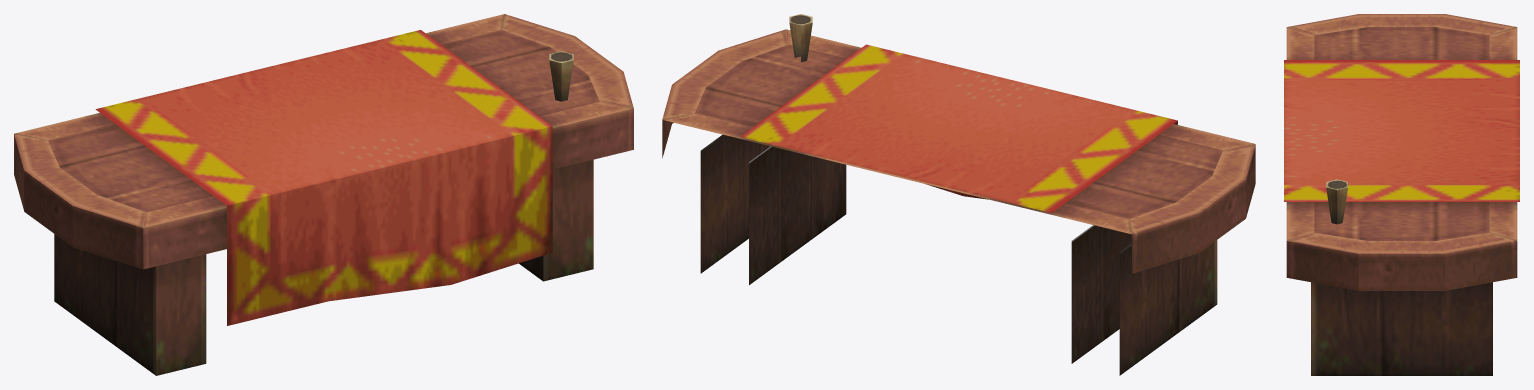
File: xsz_zhuoyi_1.FBX
The picture shows the model from 3 angles, left to right: view 1: azimuth 30°, elevation 25°; view 2: azimuth 150°, elevation 25°; view 3: azimuth 270°, elevation 25°; orthographic projection. The views are drawn at different scales.
Parts seen in each view (by area): view 1: xsz_zhuoyi_1; view 2: xsz_zhuoyi_1; view 3: xsz_zhuoyi_1.
Part boxes in pixels (x1,y1,x2,y2): xsz_zhuoyi_1: [14, 14, 633, 375]; xsz_zhuoyi_1: [662, 14, 1255, 375]; xsz_zhuoyi_1: [1284, 14, 1519, 375].
Size of the model in its own units: 196 by 81.48 by 70.07.
